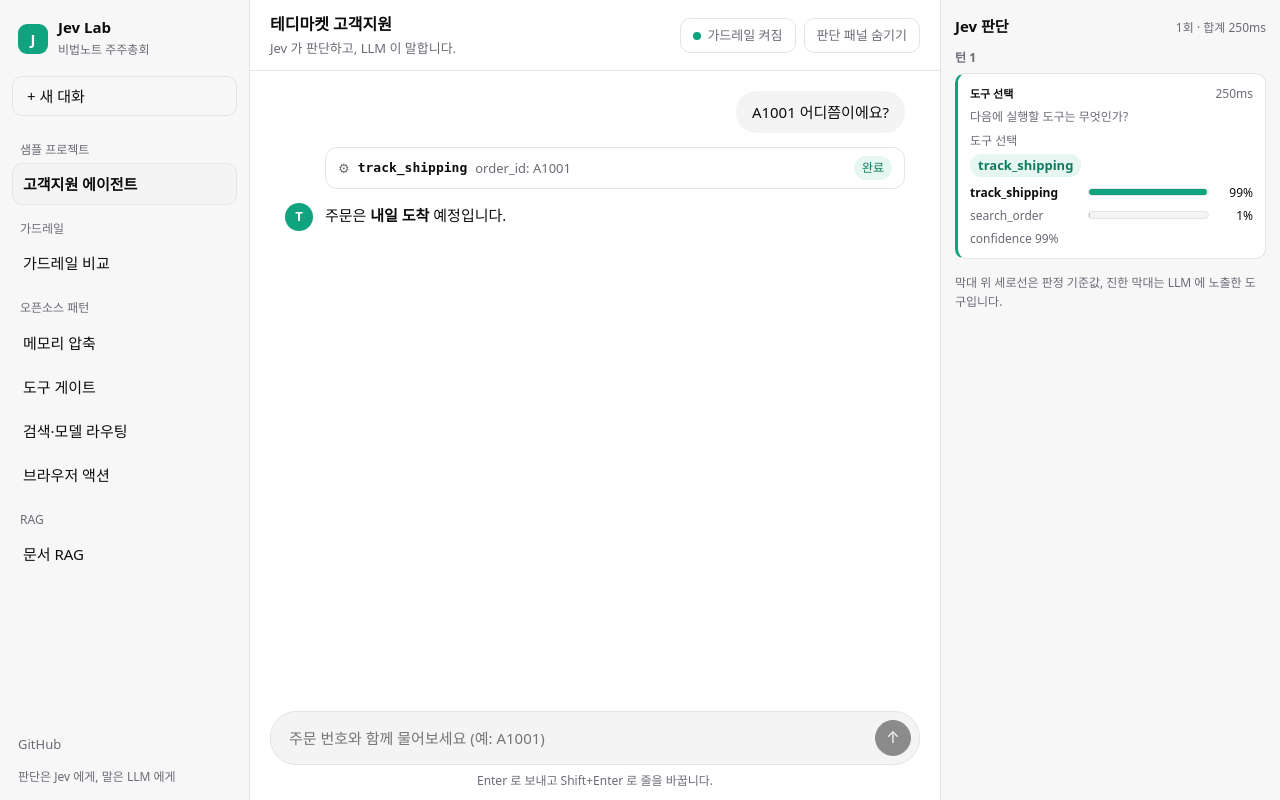
Test: App › should switch to a pattern tab on click and keep the chat mounted but hidden
The width and height of the screenshot is (1280, 800).
Step 1. Click the tab "메모리 압축" → (124, 343), box top-left (12, 322), bottom-right (237, 364)
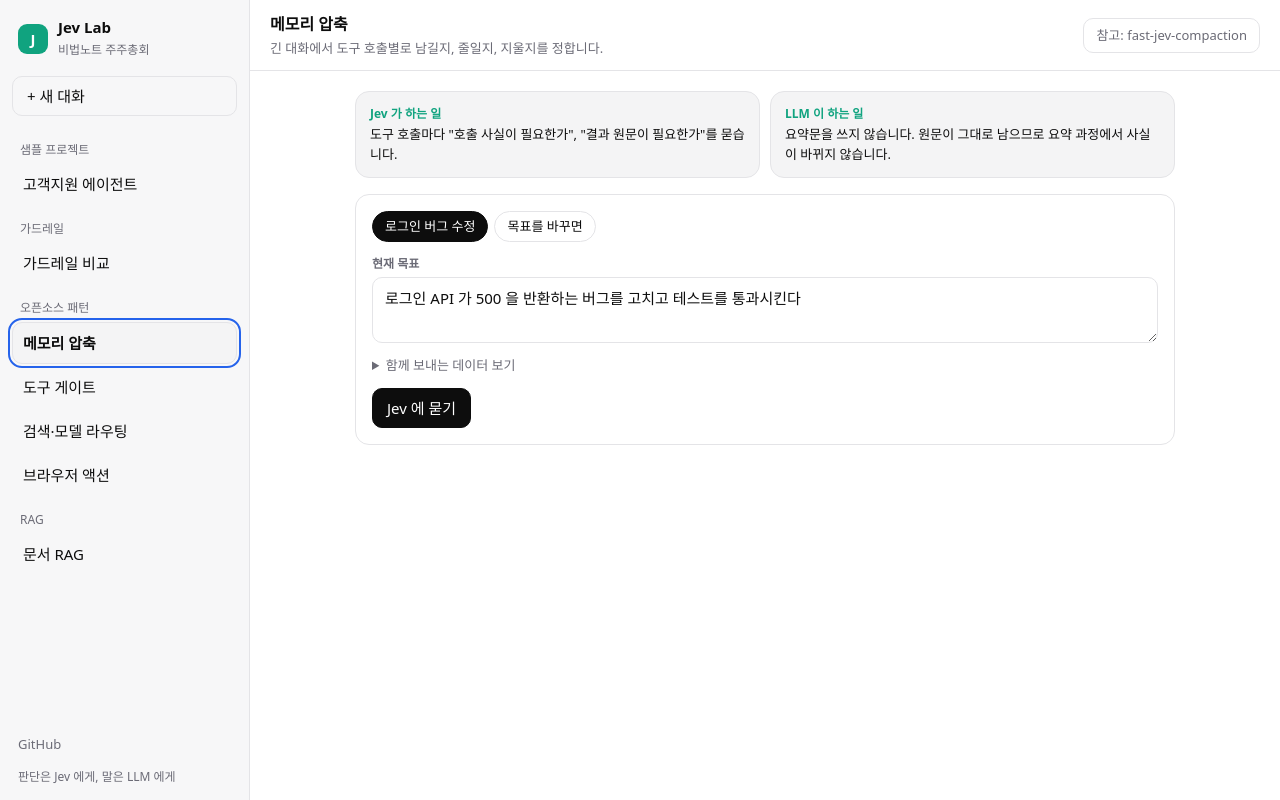
Expected: the heading "메모리 압축" is shown, top-left (270, 13), bottom-right (348, 35)
Expected: the button "Jev 에 묻기" is shown, top-left (372, 388), bottom-right (471, 428)
